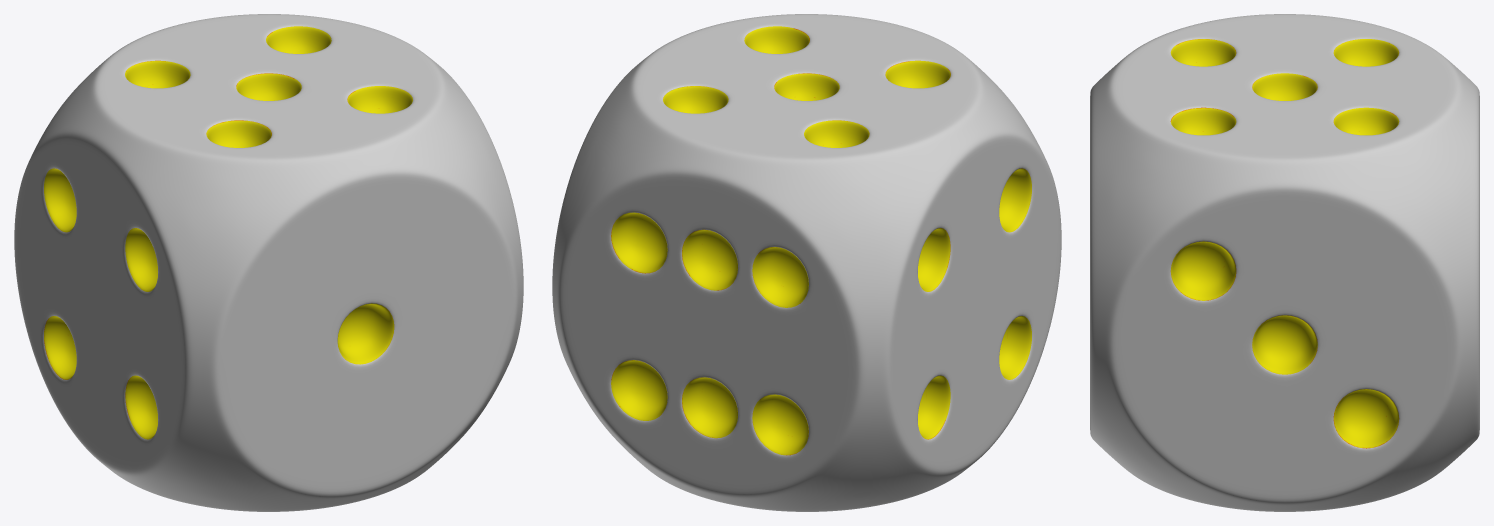
File: dice.obj
3 renders of one model, left to right at view 1: azimuth 30°, elevation 25°; view 2: azimuth 150°, elevation 25°; view 3: azimuth 270°, elevation 25°, orthographic.
Parts seen in each view (by area): view 1: Dice; view 2: Dice; view 3: Dice.
Boxes of the visible parts, x1,y1,x2,y2 form: Dice: (14,14,523,511); Dice: (552,14,1061,511); Dice: (1090,14,1479,511).
Size of the model in its own units: 9.07 by 9.07 by 9.07.
Materials: 2 (1 with a texture image).
